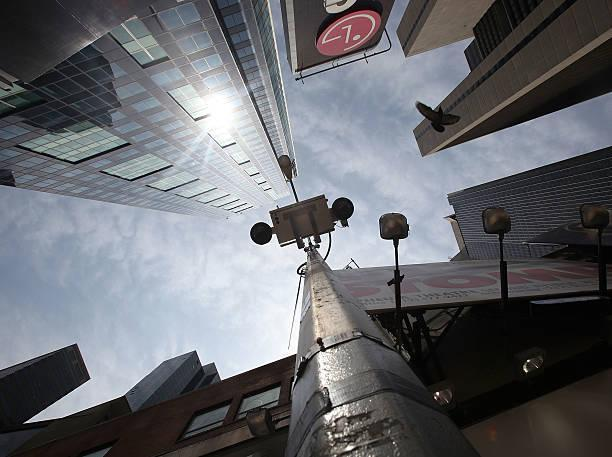camera: (233, 218, 293, 251), (328, 191, 361, 228)
